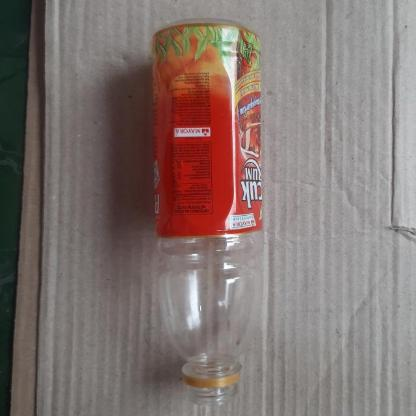Plastic Bottle: (152, 19, 266, 405)
